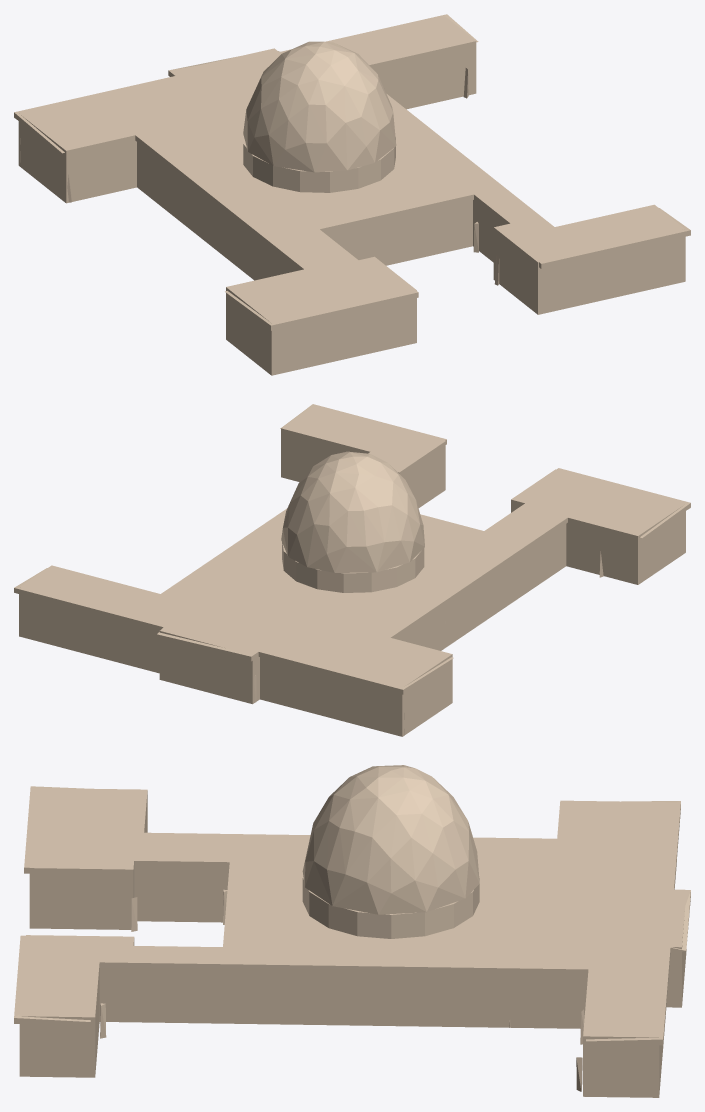
File: rashtrapati-bhavan_lod1.glb
3 renders of one model, top to bottom at view 1: azimuth 30°, elevation 25°; view 2: azimuth 150°, elevation 25°; view 3: azimuth 270°, elevation 25°, orthographic. The views are drawn at different scales.
Parts seen in each view (by area): view 1: rashtrapati-bhavan; view 2: rashtrapati-bhavan; view 3: rashtrapati-bhavan.
Boxes of the visible parts, x1,y1,x2,y2 form: rashtrapati-bhavan: (14, 14, 690, 375); rashtrapati-bhavan: (14, 404, 690, 736); rashtrapati-bhavan: (14, 765, 690, 1097).
Size of the model in its own units: 180 by 63.42 by 203.
